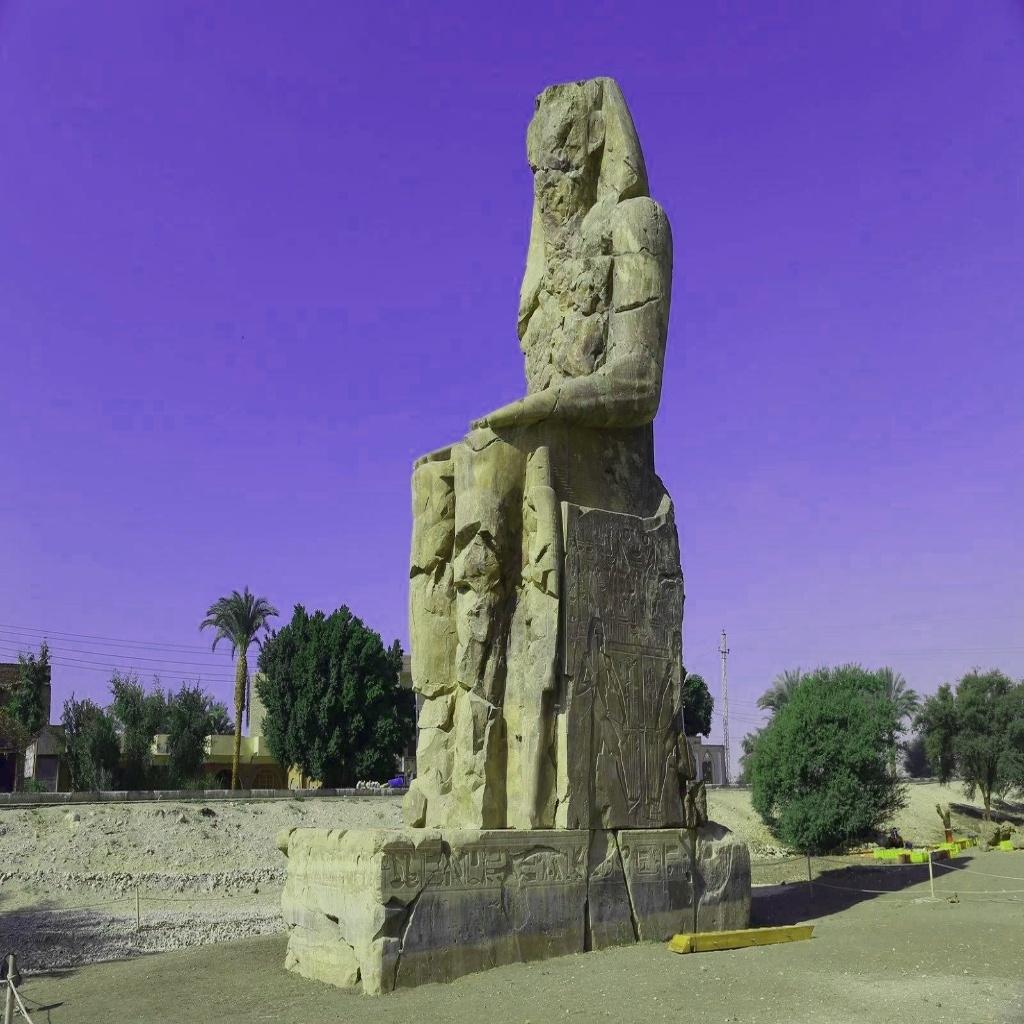Colossoi of Memnon: (278, 71, 754, 994)
